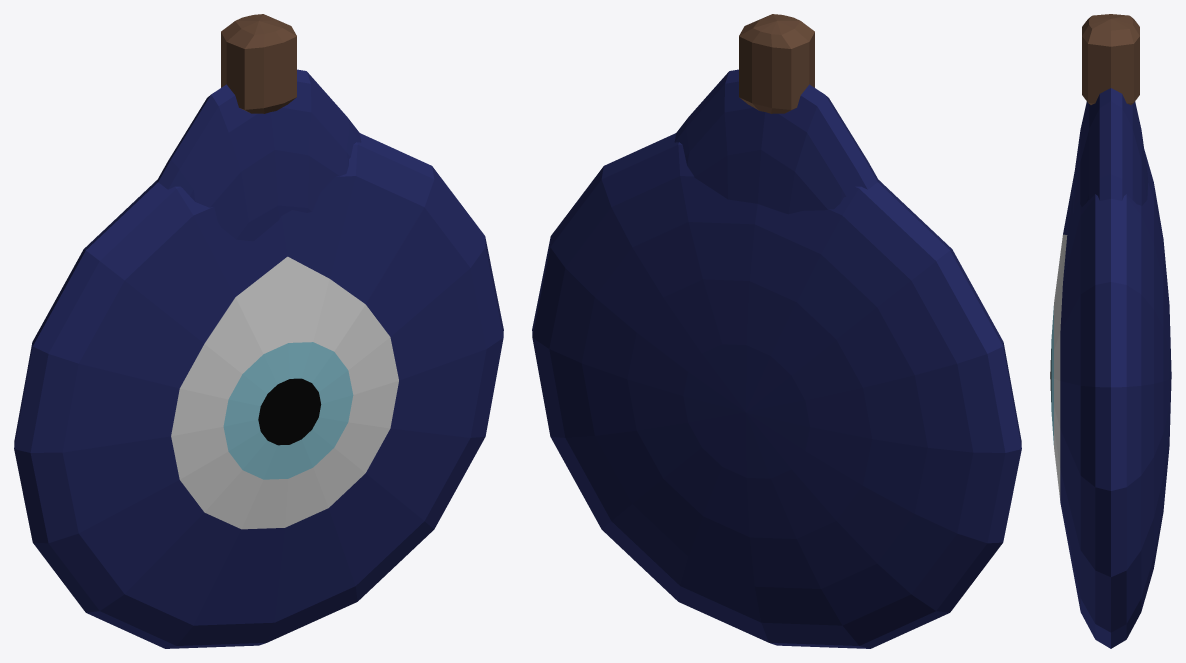
File: EvilEye_Rigged.fbx
3 renders of one model, left to right at view 1: azimuth 30°, elevation 25°; view 2: azimuth 150°, elevation 25°; view 3: azimuth 270°, elevation 25°, orthographic. The views are drawn at different scales.
Parts seen in each view (by area): view 1: EyeBall, EyeHang, Sphere; view 2: EyeBall, EyeHang, Sphere; view 3: EyeBall, EyeHang, Sphere.
Boxes of the visible parts, x1=… form: EyeBall: x1=14, y1=133, x2=503, y2=648; EyeHang: x1=156, y1=69, x2=361, y2=241; Sphere: x1=221, y1=14, x2=296, y2=113; EyeBall: x1=532, y1=133, x2=1021, y2=648; EyeHang: x1=674, y1=69, x2=879, y2=214; Sphere: x1=739, y1=14, x2=814, y2=113; EyeBall: x1=1050, y1=150, x2=1171, y2=648; EyeHang: x1=1072, y1=88, x2=1148, y2=213; Sphere: x1=1082, y1=14, x2=1139, y2=104.
Size of the model in its own units: 2 by 2.44 by 0.4428.
